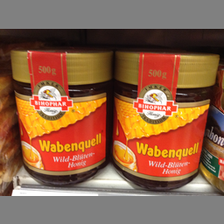honey: (10, 46, 115, 189), (118, 49, 221, 190)
